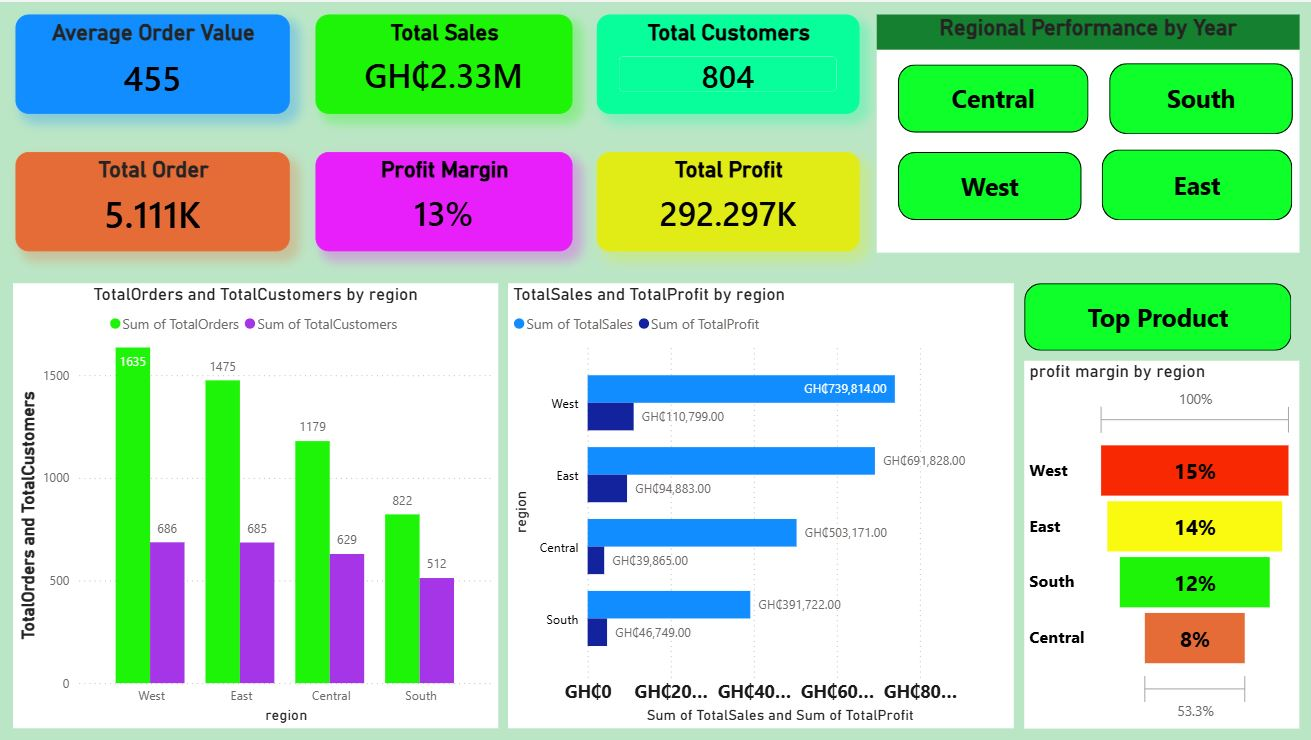

What the dashboard file says about the page in this screenshot:
{"tool":"powerbi","page":{"name":"Executive /Regional summery","canvas":[1280,720],"ordinal":0},"visuals":[{"type":"cardVisual","title":"Average Order Value","fields":{"Data":["Sum(Average Order value.Average Order Value)"]},"box":[16.9,12.7,267.3,97.1],"z":0},{"type":"cardVisual","title":"Total Sales","fields":{"Data":["Sum(Sales summery.TotalSales)"]},"box":[309.5,12.7,250.4,97.1],"z":1000},{"type":"cardVisual","title":"Total Order","fields":{"Data":["Sum(Sales summery.TotalOrders)"]},"box":[16.9,146.3,267.3,97.1],"z":2000},{"type":"cardVisual","title":"Total Customers","fields":{"Data":["Sum(Sales summery.TotalCustomers)"]},"box":[583.7,12.7,256,97.1],"z":3000},{"type":"cardVisual","title":"Profit Margin","fields":{"Data":["Sum(Sales summery.profit margin)"]},"box":[309.5,146.3,250.4,97.1],"z":4000},{"type":"clusteredColumnChart","title":"TotalOrders and TotalCustomers by region","fields":{"Category":["Regional summery.region"],"Y":["Sum(Regional summery.TotalOrders)","Sum(Regional summery.TotalCustomers)"]},"box":[14.9,273.7,472.8,433.5],"z":5000},{"type":"clusteredBarChart","title":"TotalSales and  TotalProfit by region","fields":{"Category":["Regional summery.region"],"Y":["Sum(Regional summery.TotalSales)","Sum(Regional summery.TotalProfit)"]},"box":[497.2,273.7,493.1,433.5],"z":6000},{"type":"funnel","title":"profit margin by region","fields":{"Category":["Regional summery.region"],"Y":["Sum(Regional summery.profit margin)"]},"box":[1000.4,349.5,267.6,358.3],"z":7000},{"type":"cardVisual","title":"Total Profit","fields":{"Data":["Sum(Sales summery.TotalProfit)"]},"box":[583.7,146.3,256,97.1],"z":8000},{"type":"shape","title":"Regional Performance by Year","box":[856.2,12.2,411.9,231.7],"z":9000},{"type":"shape","box":[876.5,61,185.6,66.4],"z":10000},{"type":"shape","box":[876.5,146.3,178.8,66.4],"z":11000},{"type":"shape","box":[1082.5,59.6,178.8,69.1],"z":12000},{"type":"shape","box":[1075.7,143.6,185.6,69.1],"z":13000},{"type":"shape","box":[1000.4,273.5,260.3,65.8],"z":14000}]}

Visuals, with their boxes in screenshot pixels (x1, y1, x2, y2), scaled from the page's 1280x720 canvas onto the 1311x740 screenshot:
"Average Order Value" cardVisual: 17 13 291 113
"Total Sales" cardVisual: 317 13 573 113
"Total Order" cardVisual: 17 150 291 250
"Total Customers" cardVisual: 598 13 860 113
"Profit Margin" cardVisual: 317 150 573 250
"TotalOrders and TotalCustomers by region" clusteredColumnChart: 15 281 500 727
"TotalSales and  TotalProfit by region" clusteredBarChart: 509 281 1014 727
"profit margin by region" funnel: 1025 359 1299 727
"Total Profit" cardVisual: 598 150 860 250
"Regional Performance by Year" shape: 877 13 1299 251
shape: 898 63 1088 131
shape: 898 150 1081 219
shape: 1109 61 1292 132
shape: 1102 148 1292 219
shape: 1025 281 1291 349
